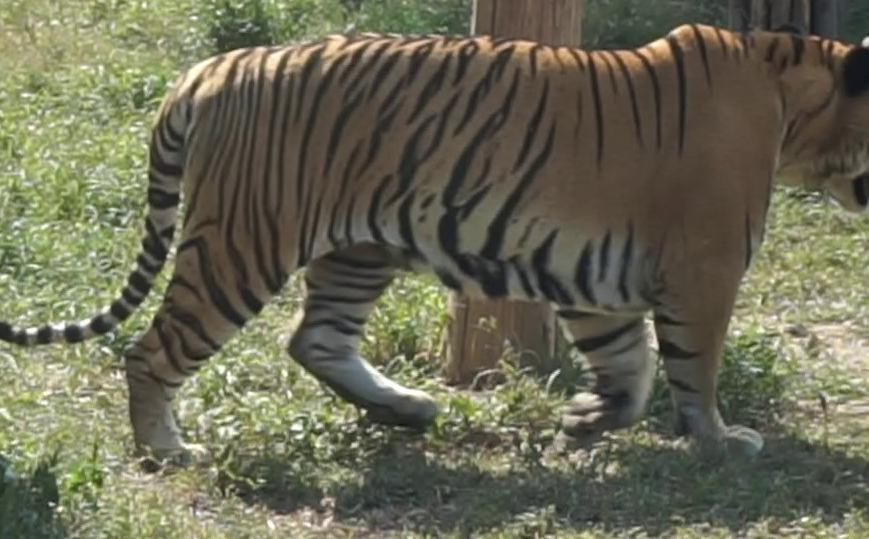tiger: (0, 25, 868, 462)
